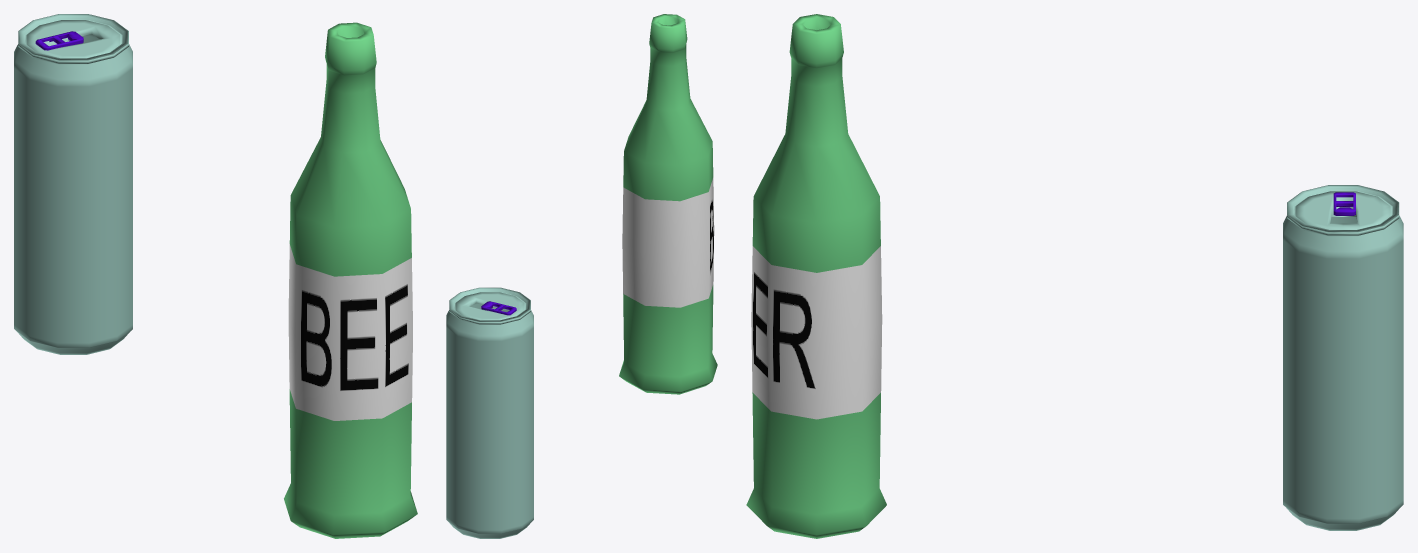
Rendered from butelka.fbx.
The picture shows the model from 3 angles, left to right: view 1: azimuth 30°, elevation 25°; view 2: azimuth 150°, elevation 25°; view 3: azimuth 270°, elevation 25°; orthographic projection. The views are drawn at different scales.
Visible parts, largest first — view 1: butelka, puszka, puszkaUp; view 2: butelka, puszka; view 3: butelka, puszka.
Boxes of the visible parts, <box> form: butelka: <box>284,22,417,538</box>; puszka: <box>14,14,132,354</box>; puszkaUp: <box>35,31,83,50</box>; butelka: <box>619,14,717,394</box>; puszka: <box>446,287,533,538</box>; butelka: <box>746,14,886,538</box>; puszka: <box>1283,185,1403,530</box>.
Bounding box in the file's own units: 0.0753 × 0.271 × 0.3266.
